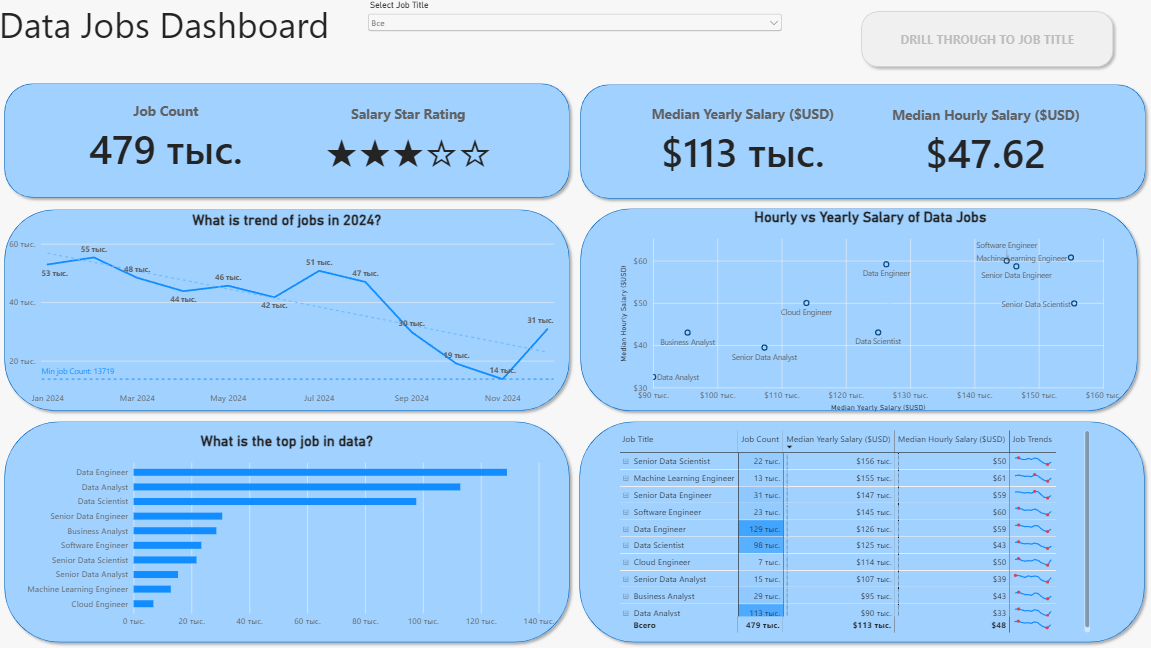

This screenshot's page, from the dashboard's own definition file:
{"tool":"powerbi","page":{"name":"Data Jobs Dashboard","canvas":[1920,1080],"ordinal":0},"visuals":[{"type":"shape","box":[0,130,960,208.4],"z":0,"group":"g1"},{"type":"group","id":"g1","title":"Background","box":[0,130,1920,950.4],"z":0},{"type":"textbox","box":[0,0,564,94],"z":1000},{"type":"shape","box":[960,131.9,960,208.4],"z":1000,"group":"g1"},{"type":"slicer","fields":{"Values":["job_postings_flat.job_title_short"]},"box":[610,0,700,94],"z":2000},{"type":"shape","box":[0,340.4,960,353.8],"z":2000,"group":"g1"},{"type":"cardVisual","fields":{"Data":["job_postings_flat.Salary Star Rating"]},"box":[479.5,142.7,404.2,184.3],"z":3000},{"type":"shape","box":[960,338.4,946.6,355.7],"z":3000,"group":"g1"},{"type":"cardVisual","fields":{"Data":["CountNonNull(job_postings_flat.job_title_short)"]},"box":[85.2,146.6,386.4,168.4],"z":4000},{"type":"shape","box":[0,694.1,960,386.3],"z":4000,"group":"g1"},{"type":"cardVisual","fields":{"Data":["Median(job_postings_flat.salary_year_avg)"]},"box":[1052.1,154.6,376.5,160.5],"z":5000},{"type":"shape","box":[959,692.6,960,386.3],"z":5000,"group":"g1"},{"type":"cardVisual","fields":{"Data":["Median(job_postings_flat.salary_hour_avg)"]},"box":[1452.4,144.6,386.4,184.3],"z":6000},{"type":"lineChart","title":"What is trend of jobs in 2024?","fields":{"Category":["job_postings_flat.job_posted_date.Изменение.Иерархия дат.Год","job_postings_flat.job_posted_date.Изменение.Иерархия дат.Квартал","job_postings_flat.job_posted_date.Изменение.Иерархия дат.Месяц","job_postings_flat.job_posted_date.Изменение.Иерархия дат.День"],"Y":["CountNonNull(job_postings_flat.job_title_short)"]},"box":[0,338.5,960,355.7],"z":7000},{"type":"barChart","title":"What is the top job in data?","fields":{"Category":["job_postings_flat.job_title_short"],"Y":["CountNonNull(job_postings_flat.job_title_short)"]},"box":[17.8,707.4,923.3,358.6],"z":8000},{"type":"scatterChart","title":"Hourly vs Yearly Salary of Data Jobs","fields":{"Series":["job_postings_flat.job_title_short"],"X":["Median(job_postings_flat.salary_year_avg)"],"Y":["Median(job_postings_flat.salary_hour_avg)"]},"box":[1018.5,332.9,867.9,368.5],"z":9000},{"type":"pivotTable","fields":{"Rows":["job_postings_flat.job_title_short","job_postings_flat.job_posted_date.Изменение.Иерархия дат.Квартал"],"Values":["CountNonNull(job_postings_flat.job_title_short)","Median(job_postings_flat.salary_year_avg)","Median(job_postings_flat.salary_hour_avg)","SparklineData(CountNonNull(job_postings_flat.job_title_short)_[job_postings_flat.job_posted_date.Изменение.Иерархия дат."]},"box":[1018.5,703.4,816.3,366.6],"z":10000},{"type":"actionButton","box":[1428.5,10.6,437.6,110.4],"z":11000}]}

Visuals, with their boxes in screenshot pixels (x1, y1, x2, y2), scaled from the page's 1920x1080 canvas onto the 1151x648 screenshot:
shape: bbox(0, 78, 576, 203)
"Background" group: bbox(0, 78, 1150, 647)
textbox: bbox(0, 0, 338, 56)
shape: bbox(576, 79, 1150, 204)
slicer - job_postings_flat.job_title_short: bbox(366, 0, 785, 56)
shape: bbox(0, 204, 576, 417)
cardVisual - job_postings_flat.Salary Star Rating: bbox(287, 86, 530, 196)
shape: bbox(576, 203, 1143, 416)
cardVisual - CountNonNull(job_postings_flat.job_title_short): bbox(51, 88, 283, 189)
shape: bbox(0, 416, 576, 647)
cardVisual - Median(job_postings_flat.salary_year_avg): bbox(631, 93, 856, 189)
shape: bbox(575, 416, 1150, 647)
cardVisual - Median(job_postings_flat.salary_hour_avg): bbox(871, 87, 1102, 197)
"What is trend of jobs in 2024?" lineChart: bbox(0, 203, 576, 417)
"What is the top job in data?" barChart: bbox(11, 424, 564, 640)
"Hourly vs Yearly Salary of Data Jobs" scatterChart: bbox(611, 200, 1131, 421)
pivotTable - job_postings_flat.job_title_short x job_postings_flat.job_posted_date.Изменение.Иерархия дат.Квартал: bbox(611, 422, 1100, 642)
actionButton: bbox(856, 6, 1119, 73)
